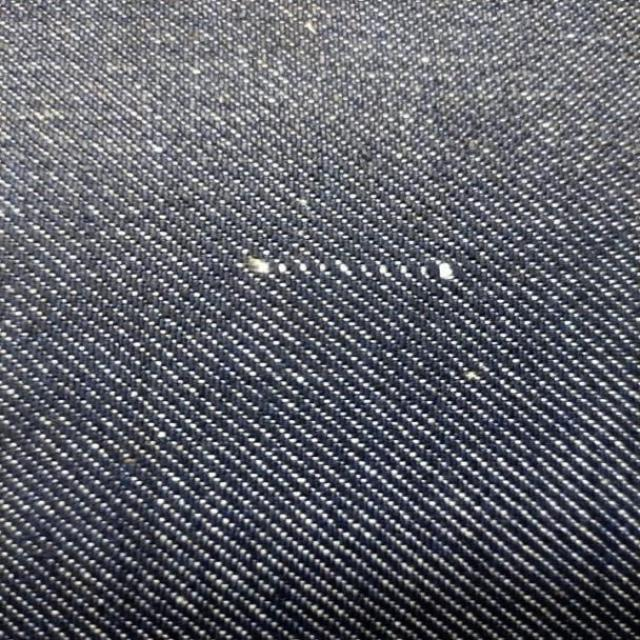Knot: (244, 256, 289, 275), (421, 262, 456, 281), (335, 260, 352, 275), (295, 260, 308, 272), (379, 265, 392, 277), (401, 265, 411, 276), (318, 262, 328, 272), (361, 264, 367, 272)
